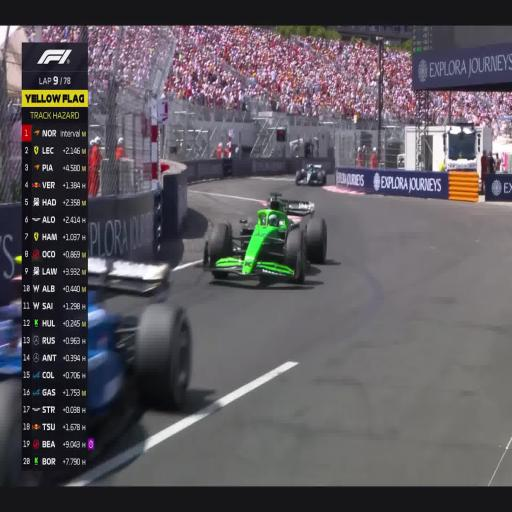f1_car: (86, 258, 191, 461), (203, 193, 326, 283), (0, 285, 46, 485), (295, 164, 326, 186), (30, 411, 44, 422), (61, 472, 73, 479), (26, 337, 38, 343), (26, 384, 36, 391), (32, 395, 38, 404), (54, 475, 61, 482), (13, 278, 21, 284), (41, 395, 46, 404), (55, 340, 62, 343), (33, 366, 36, 371), (19, 261, 20, 262)
